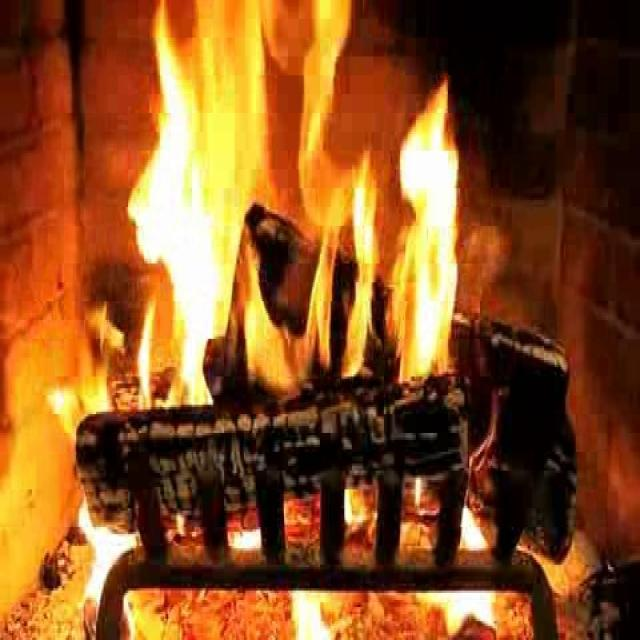Fire: (120, 18, 452, 405)
